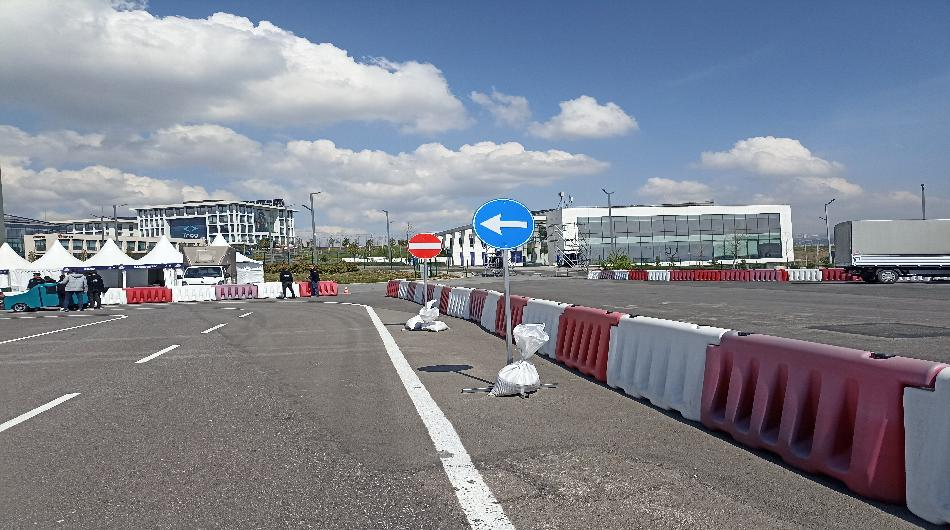girilmez: (408, 233, 444, 260)
sola_mecburi_1: (473, 198, 541, 253)
